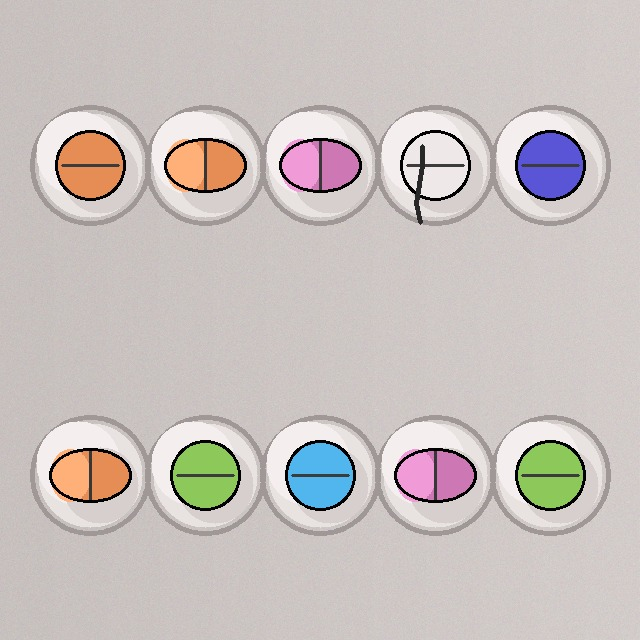crack: (373, 103, 497, 227)
